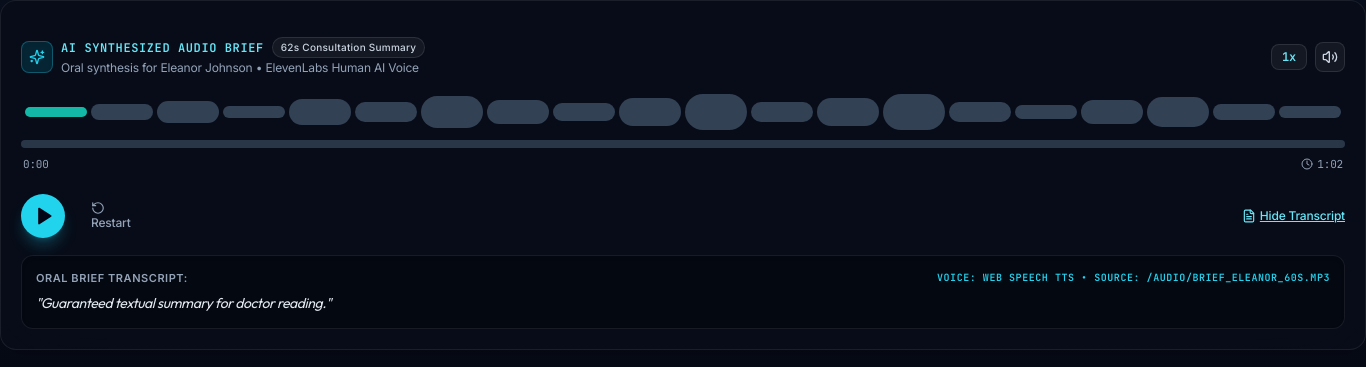
Test: TASK-P1-501: Doctor Console, Briefing UI & Audio Player Suite › 2. AudioBriefPlayer Component › guarantees text fallback transcript is visible and toggleable
Expected: the element with test id "audio-transcript-fallback" is shown, [21,254,1345,329]
Expected: the text "\"Guaranteed textual summary for doctor reading.\"" is shown, [36,294,331,312]
Click the button with test id "toggle-transcript-btn". click: click(1293, 216)
box: [1242,208,1345,224]
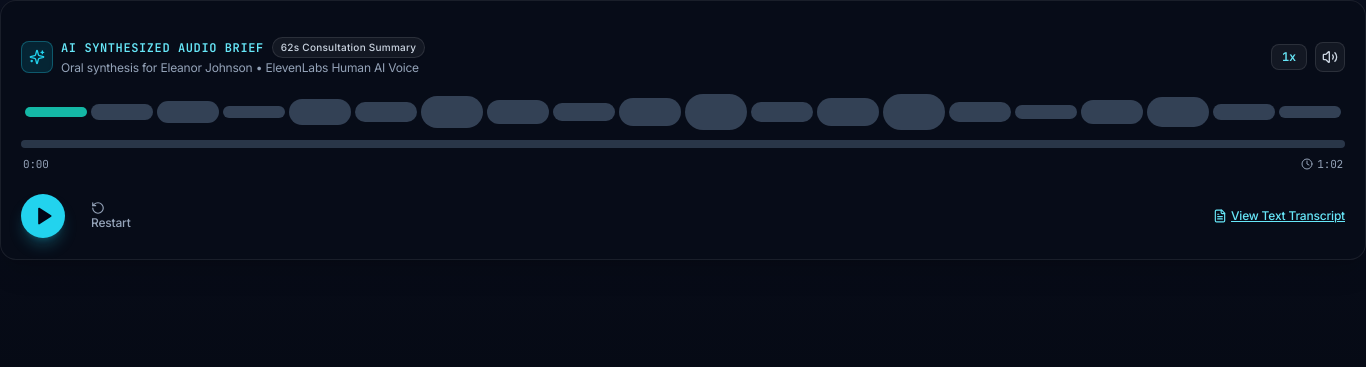
Expected: the element with test id "audio-transcript-fallback" is gone
Click the button with test id "toggle-transcript-btn". click: click(1279, 216)
box: [1213,208,1345,224]
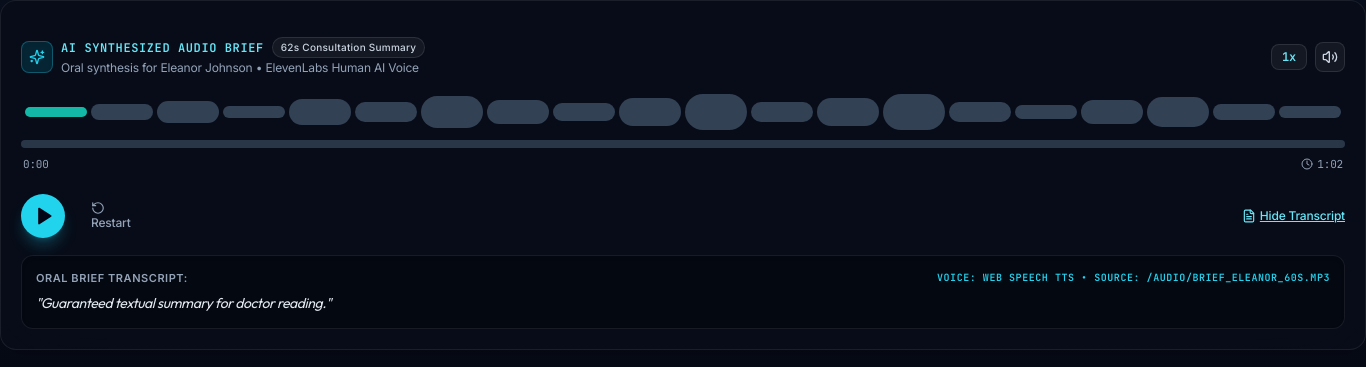
Expected: the element with test id "audio-transcript-fallback" is shown, [21,254,1345,329]
